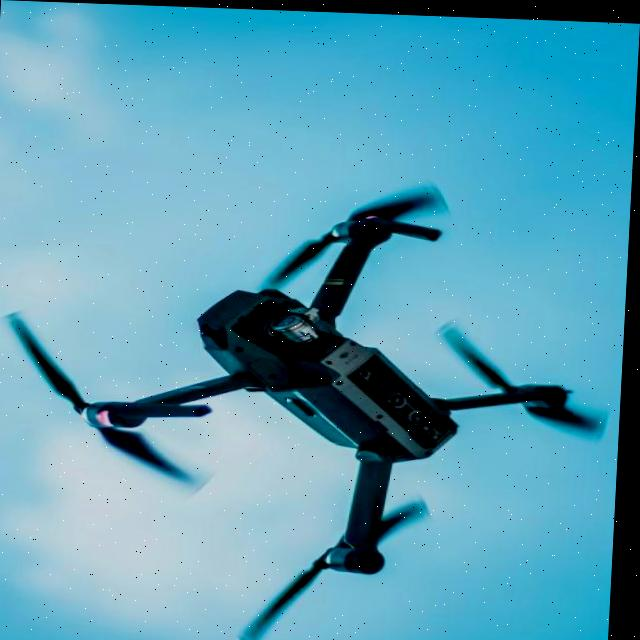drone: (22, 157, 594, 640)
